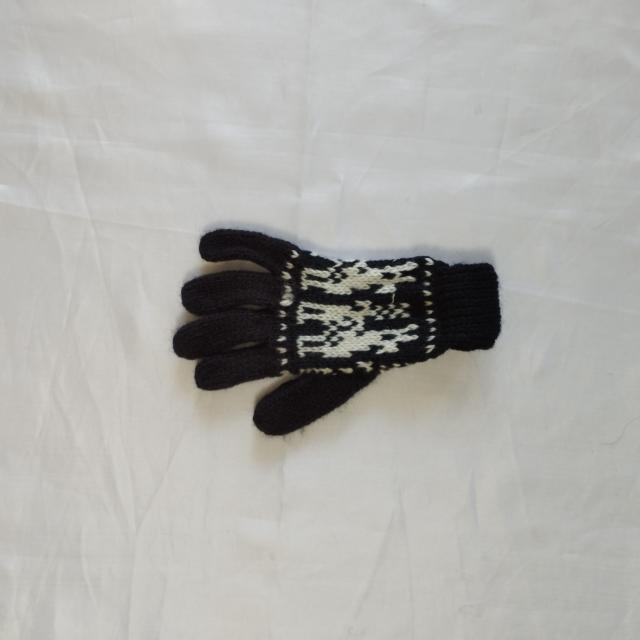Guante: (172, 225, 502, 438)
